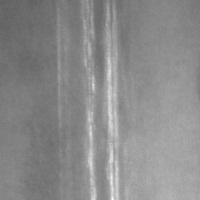scratches: (102, 1, 123, 199), (76, 1, 97, 199), (54, 13, 70, 121)
